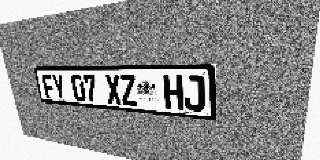0: (70, 74, 86, 102)
7: (82, 74, 99, 103)
F: (41, 74, 56, 99)
H: (163, 75, 184, 110)
J: (183, 75, 205, 112)
X: (104, 74, 122, 105)
Y: (51, 74, 66, 100)
Z: (119, 75, 138, 106)
